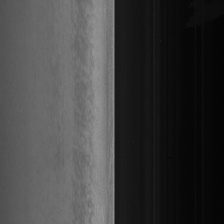silk_spot: (74, 91, 98, 160)
